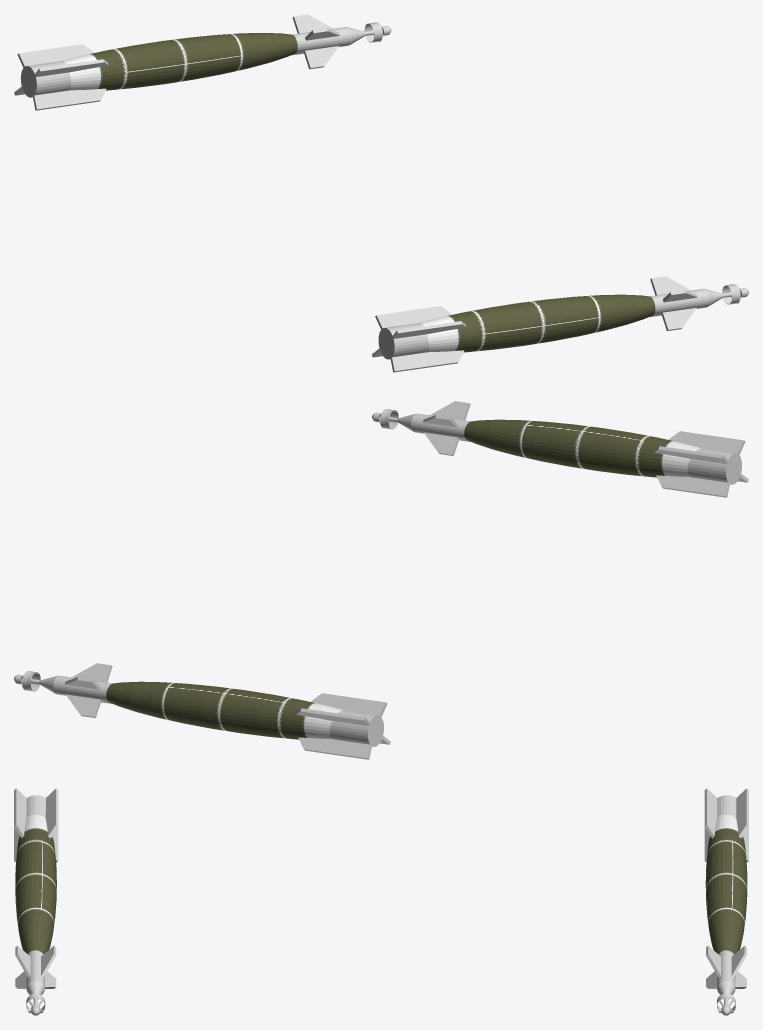
Rendered from a10cgbu1039.glb.
The picture shows the model from 3 angles, top to bottom: view 1: azimuth 30°, elevation 25°; view 2: azimuth 150°, elevation 25°; view 3: azimuth 270°, elevation 25°; orthographic projection. The views are drawn at different scales.
Visible parts, largest first — view 1: 球.006, 球.011; view 2: 球.006, 球.011; view 3: 球.011, 球.006.
Part boxes in pixels (left/top/right/bottom): 球.006: left=14, top=14, right=391, bottom=110; 球.011: left=372, top=276, right=748, bottom=372; 球.006: left=14, top=663, right=390, bottom=759; 球.011: left=372, top=401, right=748, bottom=497; 球.011: left=14, top=788, right=58, bottom=1015; 球.006: left=704, top=788, right=748, bottom=1015.
Bounding box in the file's own units: 4.25 × 0.7652 × 7.66.
Materials: 1 (1 with a texture image).
